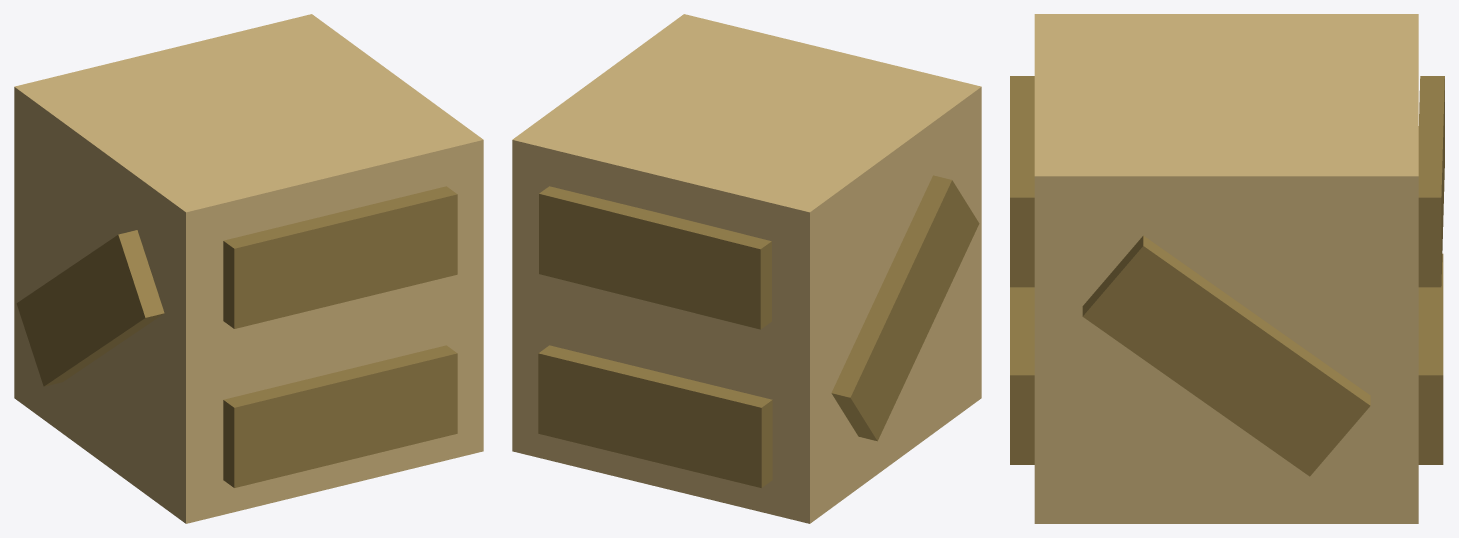
File: crate.fbx
3 renders of one model, left to right at view 1: azimuth 30°, elevation 25°; view 2: azimuth 150°, elevation 25°; view 3: azimuth 270°, elevation 25°, orthographic. The views are drawn at different scales.
Parts seen in each view (by area): view 1: pCube11; view 2: pCube11; view 3: pCube11.
Boxes of the visible parts, x1,y1,x2,y2 form: pCube11: [14, 14, 483, 523]; pCube11: [512, 14, 981, 523]; pCube11: [1010, 14, 1444, 523].
Bounding box in the file's own units: 0.7698 × 0.6821 × 0.7728.
